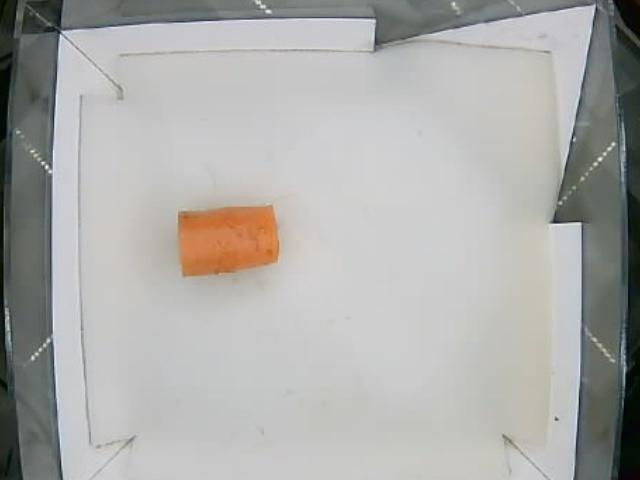Carrot: (174, 204, 279, 278)
